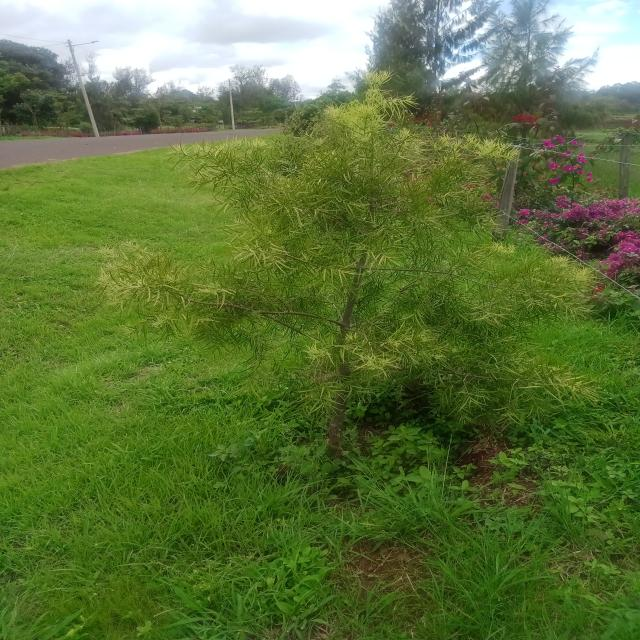Podocarpus falcatus: (99, 84, 602, 506)
